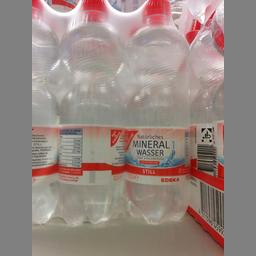water: (60, 0, 126, 224), (124, 0, 188, 226), (30, 0, 60, 225)
